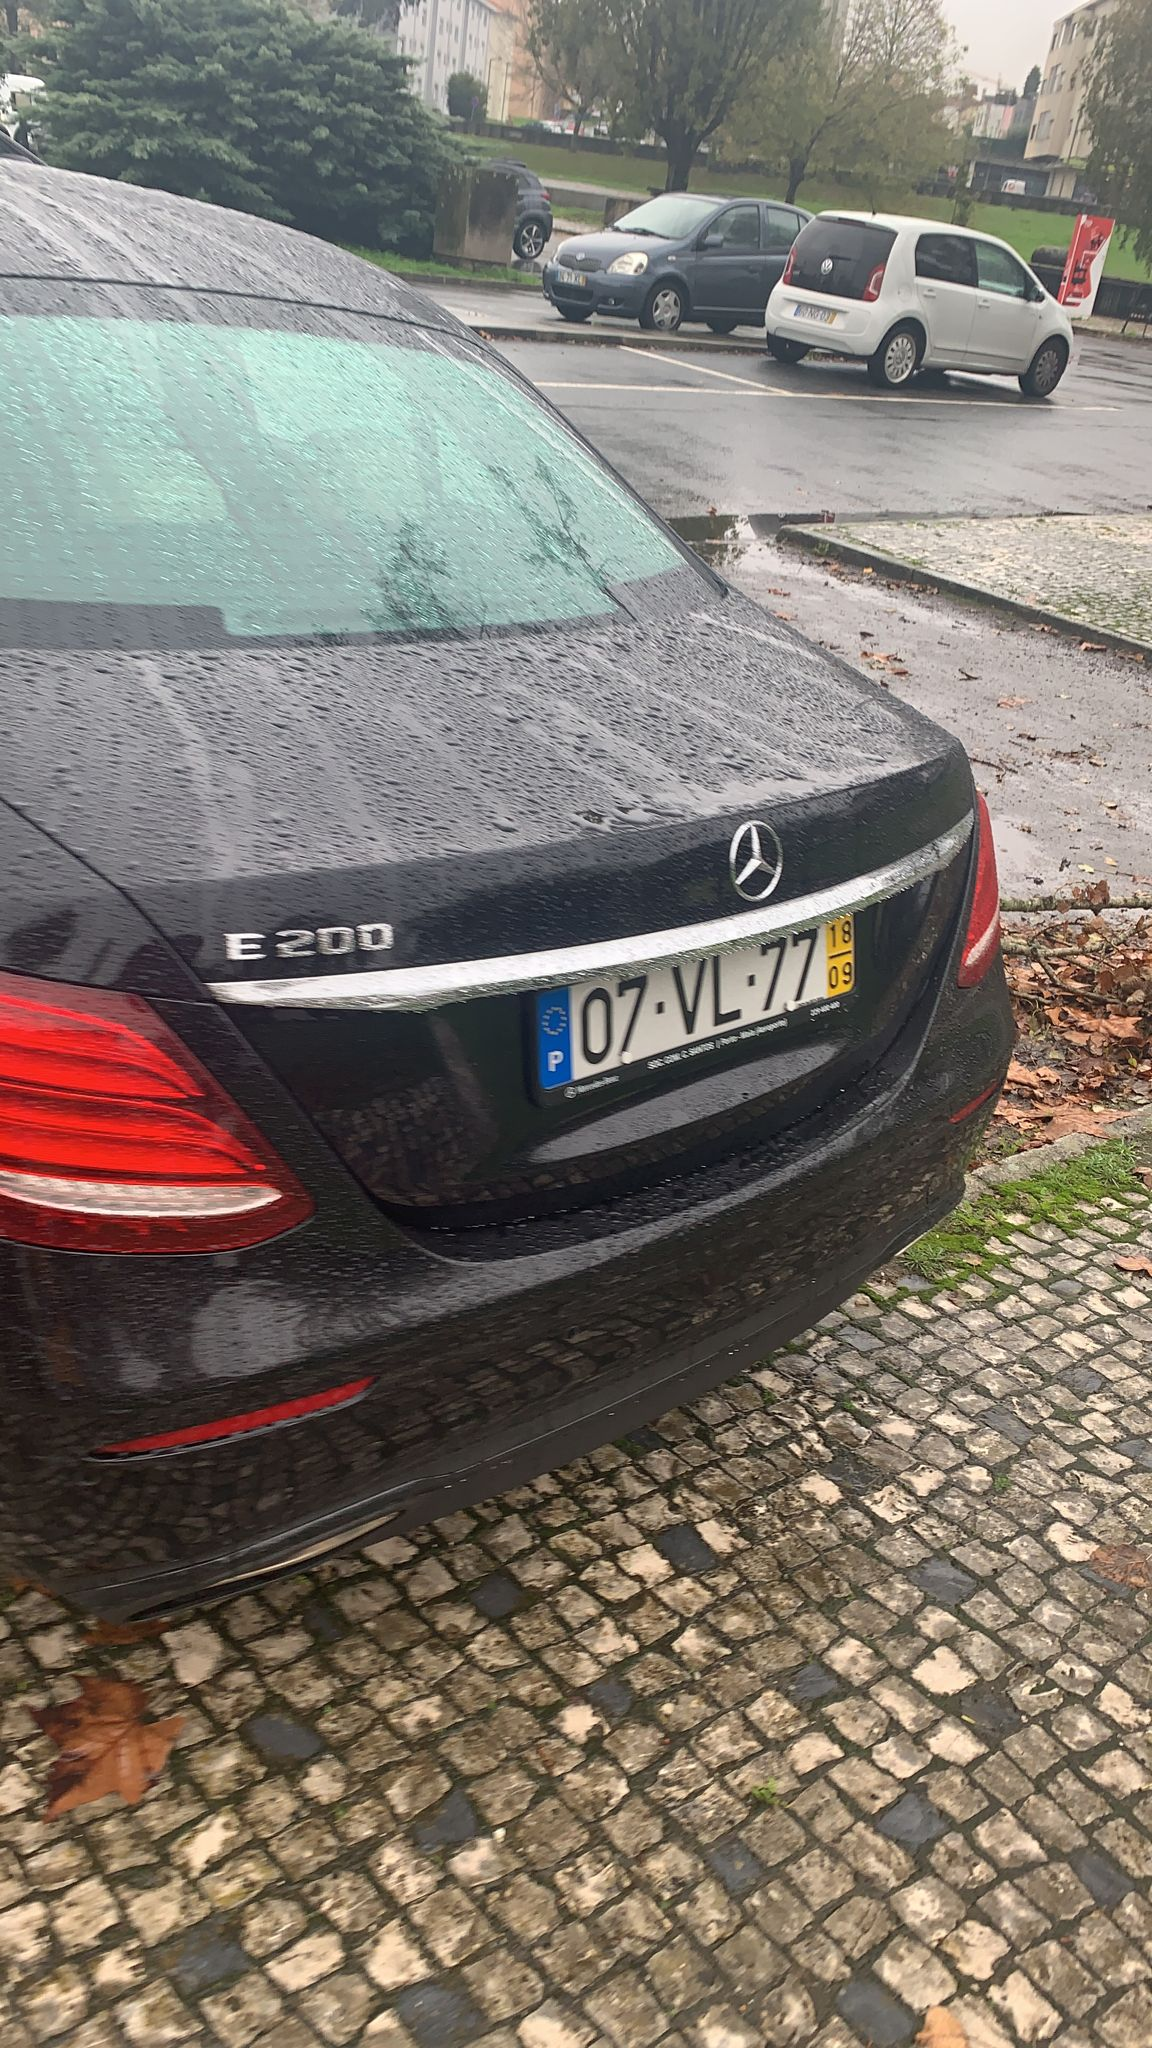carplate: (514, 894, 885, 1106)
